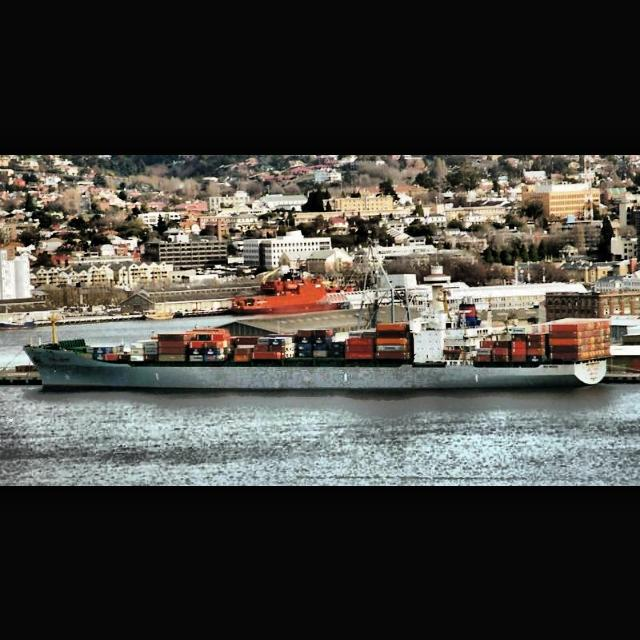container: (22, 289, 612, 393)
